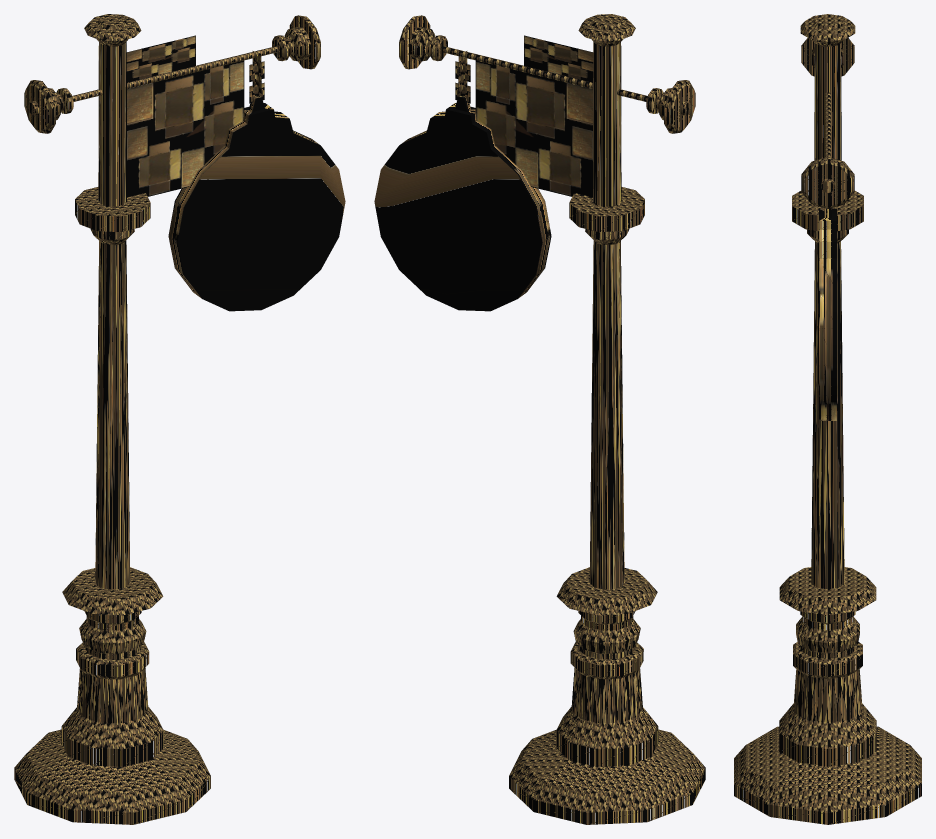
Rendered from Clock2.fbx.
3 views of the same model, side by side, from view 1: azimuth 30°, elevation 25°; view 2: azimuth 150°, elevation 25°; view 3: azimuth 270°, elevation 25° (orthographic).
Parts seen in each view (by area): view 1: Clock2; view 2: Clock2; view 3: Clock2.
Part boxes in pixels (x1=…): Clock2: x1=14, y1=14, x2=345, y2=824; Clock2: x1=374, y1=14, x2=705, y2=824; Clock2: x1=734, y1=14, x2=921, y2=824.
Size of the model in its own units: 37.25 by 86.59 by 19.33.
